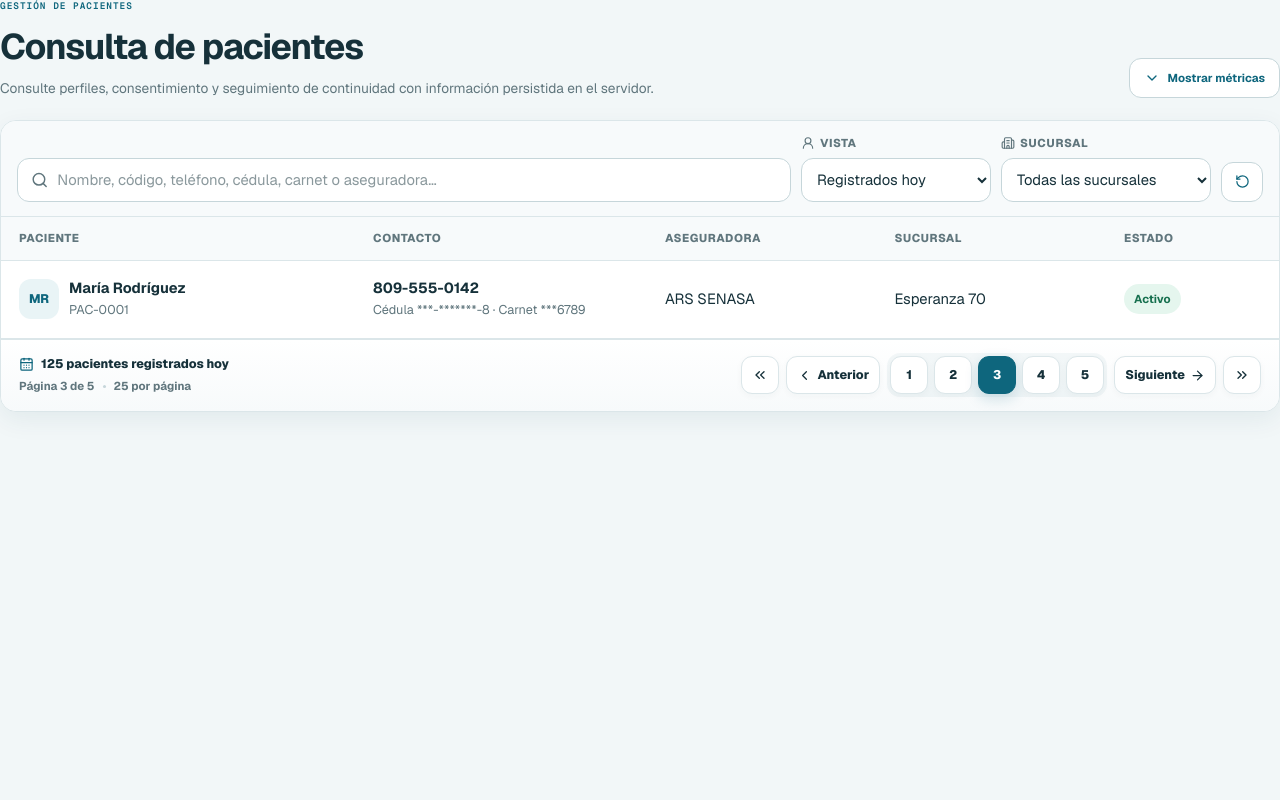
it: PatientsWorkspace › renders numbered pagination below the patient records
Check: the text "Página 3 de 5" is shown, box [19, 378, 94, 395]
Check: the text "25 por página" is shown, box [114, 378, 191, 395]
Click the link "Siguiente" at (1165, 375), box [1114, 356, 1216, 394]
(page scrolled)
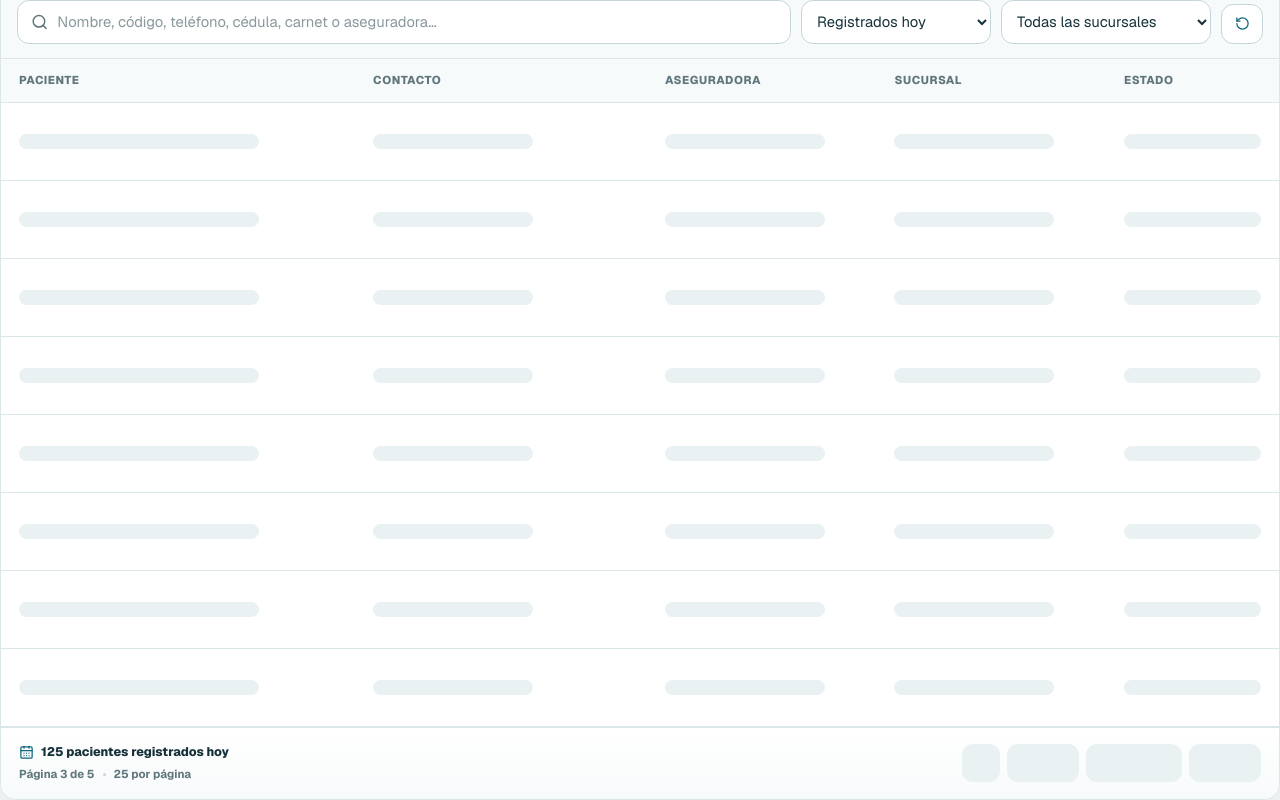
Check: the message named "Cargando pacientes" is shown
